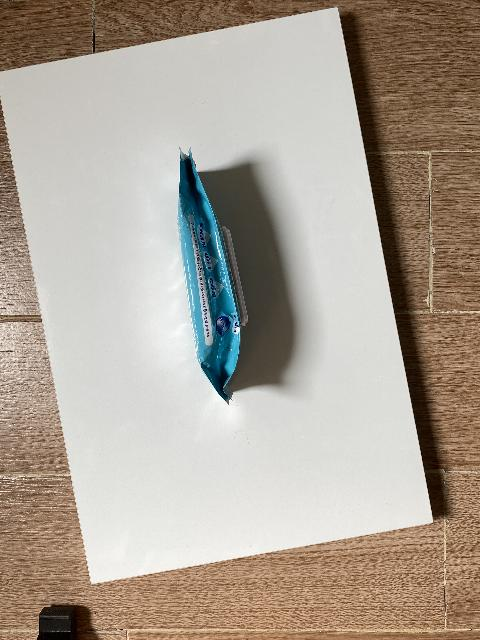Let-green_alcohol_wipes: (177, 147, 249, 401)
